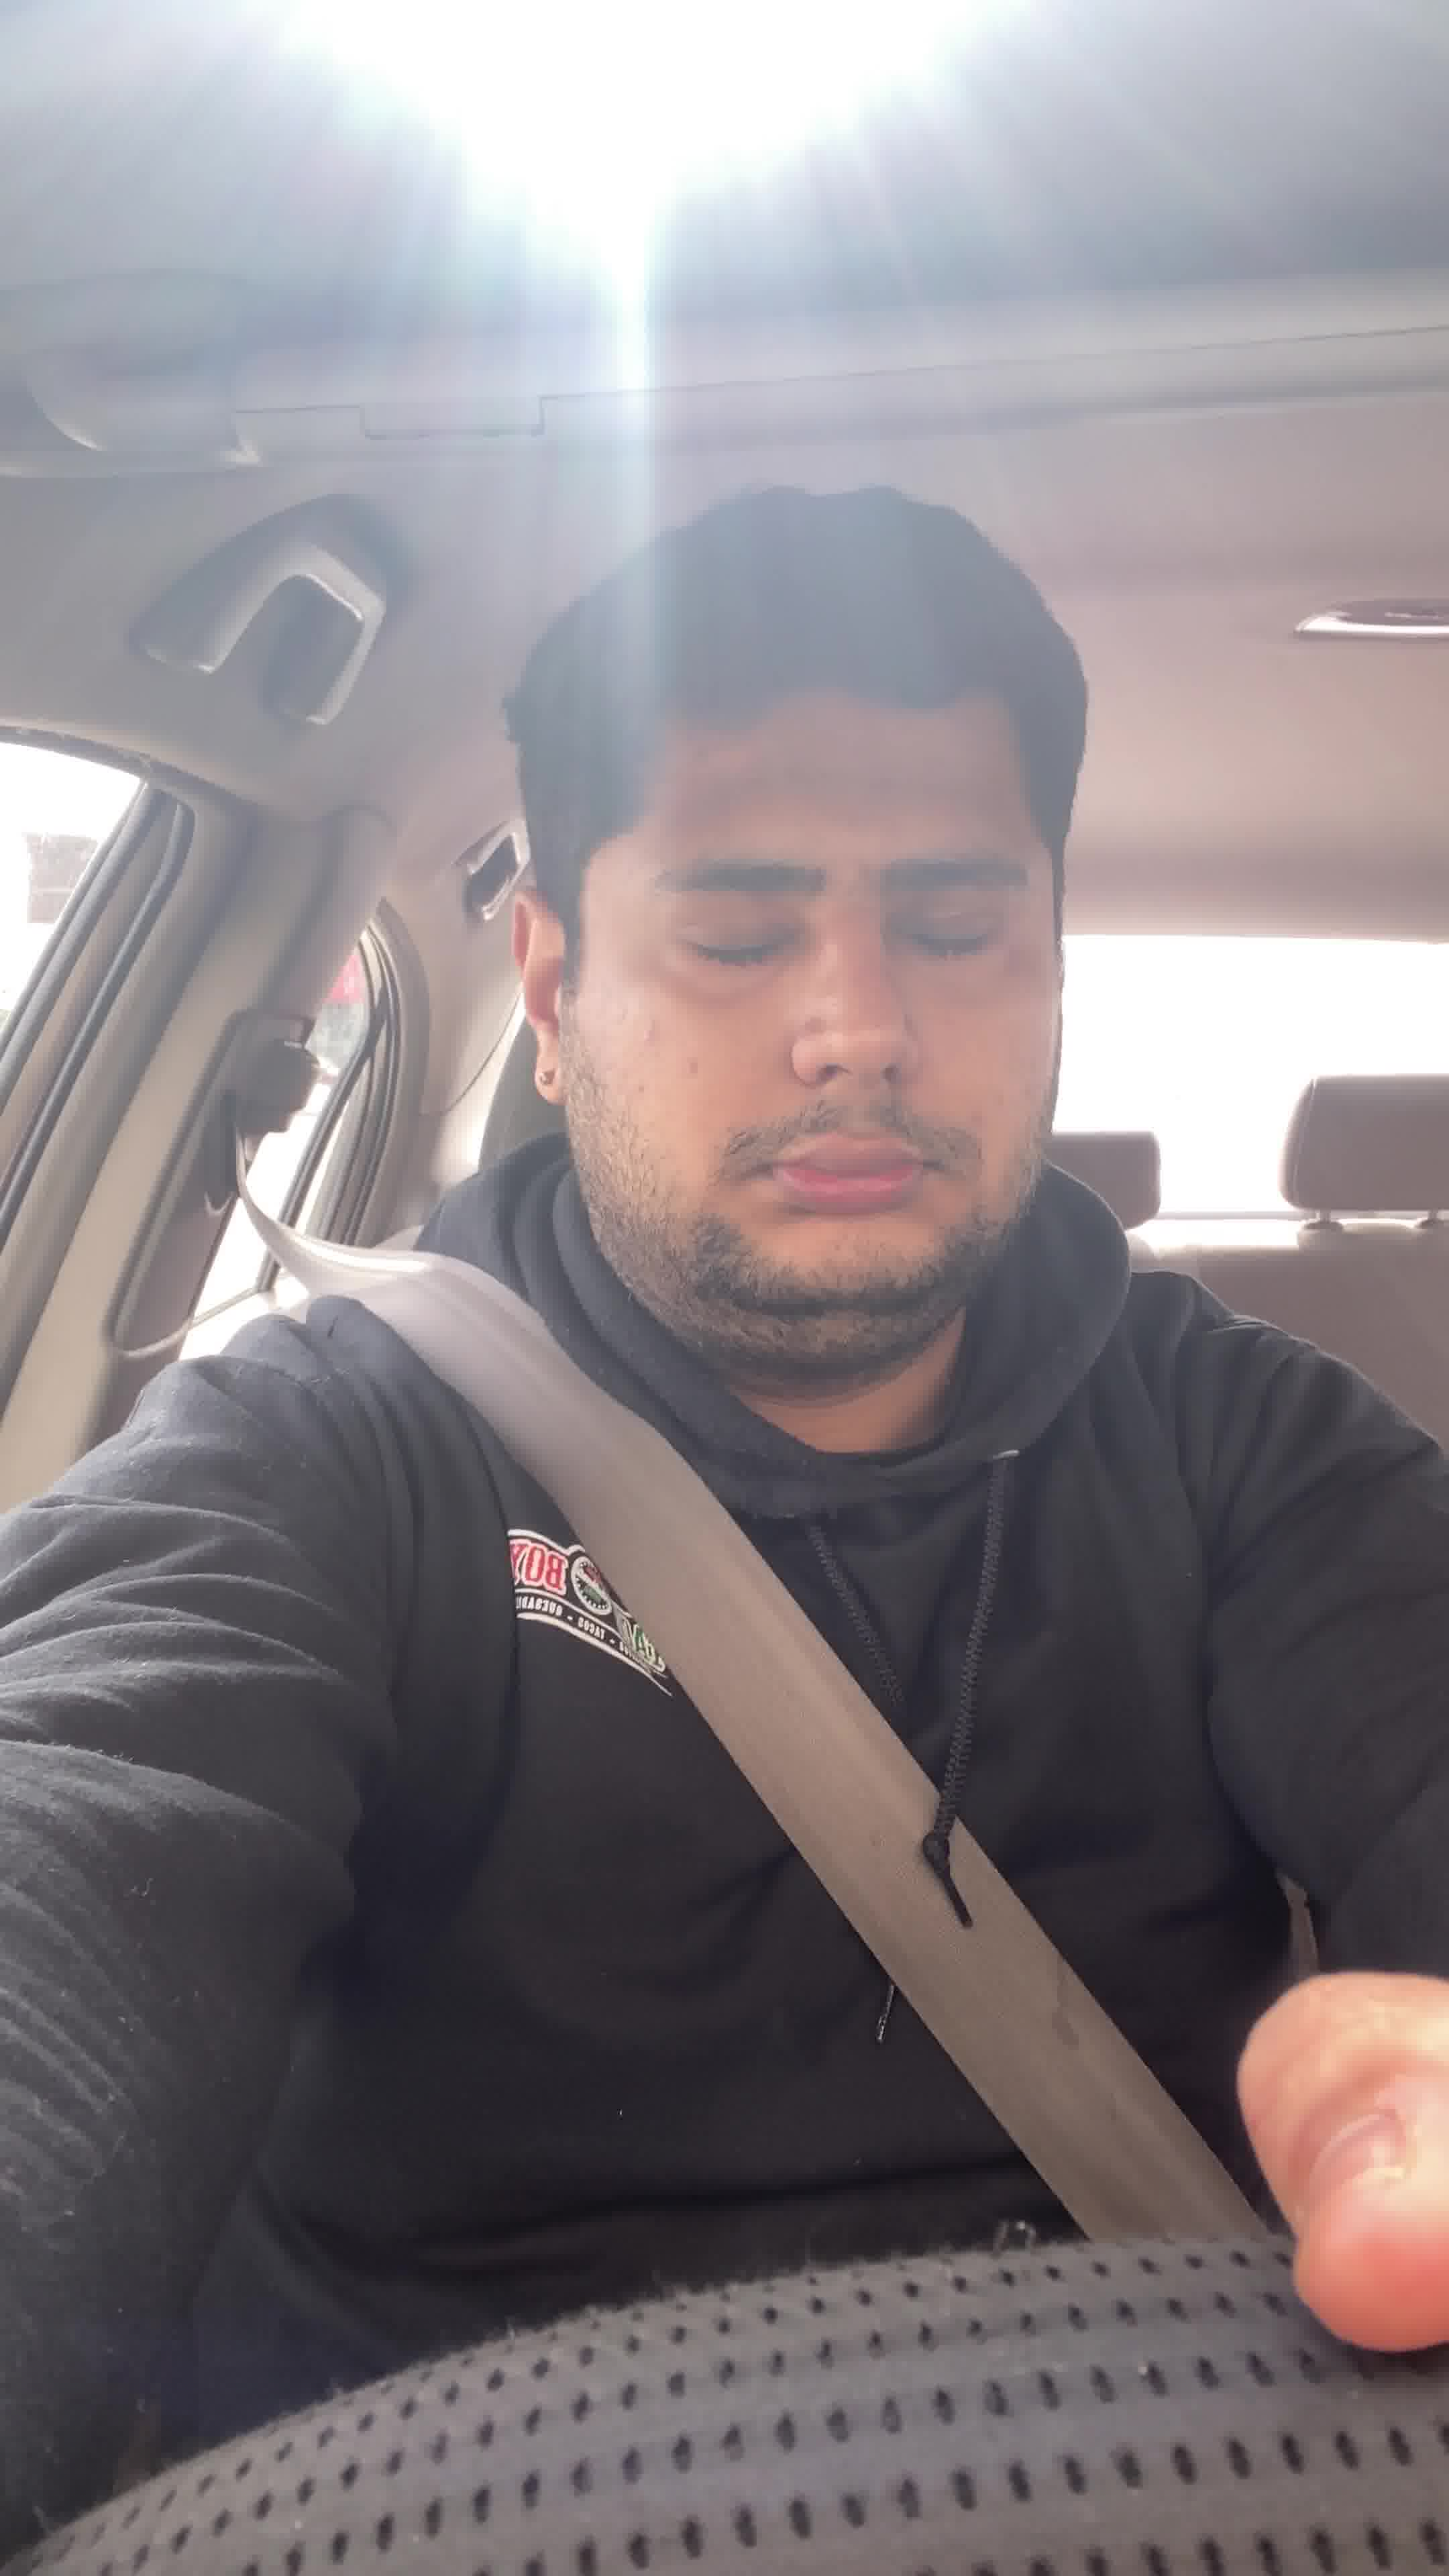seatbelt: (211, 1058, 1322, 2302)
